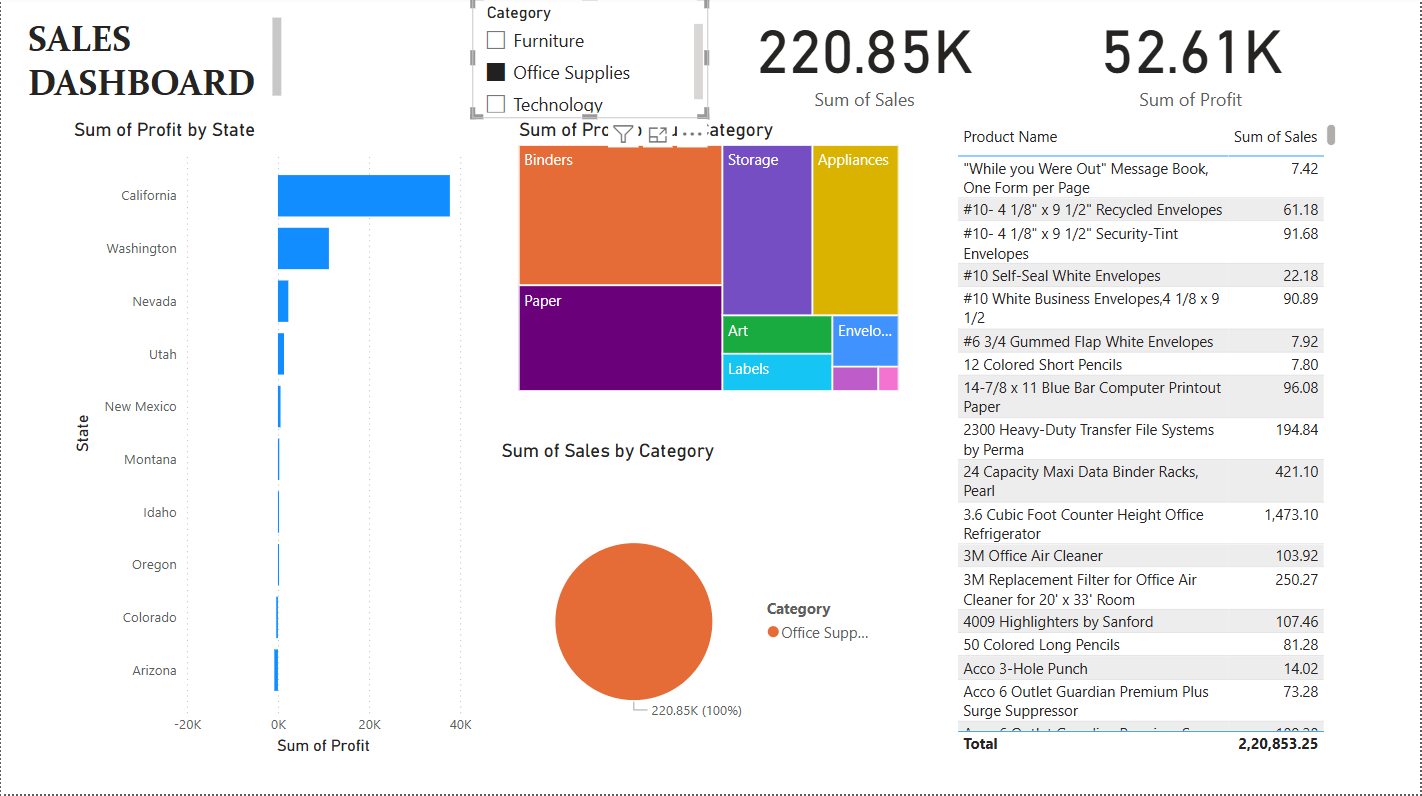

The page's visual inventory and layout, read from the dashboard file:
{"tool":"powerbi","page":{"name":"Page 1","canvas":[1280,720],"ordinal":0},"visuals":[{"type":"barChart","fields":{"Category":["Walmart.State"],"Y":["Sum(Walmart.Profit)"]},"box":[61.1,110,367.9,578.2],"z":0},{"type":"treemap","fields":{"Group":["Walmart.Sub-Category"],"Values":["Sum(Walmart.Profit)"]},"box":[462.1,110,352.1,250.6],"z":1000},{"type":"pieChart","fields":{"Category":["Walmart.Category"],"Y":["Sum(Walmart.Sales)"]},"box":[446.2,399.7,352.1,309.3],"z":2000},{"type":"tableEx","fields":{"Values":["Walmart.Product Name","Sum(Walmart.Sales)"]},"box":[856.9,110,352.1,578.2],"z":3000},{"type":"card","fields":{"Values":["Sum(Walmart.Sales)"]},"box":[622.2,0,313.1,108.2],"z":4000},{"type":"card","fields":{"Values":["Sum(Walmart.Profit)"]},"box":[935.3,0,274.4,108.2],"z":5000},{"type":"slicer","fields":{"Values":["Walmart.Category"]},"box":[425.4,1.2,212.7,108.8],"z":6000},{"type":"textbox","box":[19.6,14.7,238.4,84.3],"z":7000}]}

Visuals, with their boxes in screenshot pixels (x1, y1, x2, y2), scaled from the page's 1280x720 canvas onto the 1422x796 screenshot:
barChart - Walmart.State x Sum(Walmart.Profit): 68/122/477/761
treemap - Walmart.Sub-Category x Sum(Walmart.Profit): 513/122/905/399
pieChart - Walmart.Category x Sum(Walmart.Sales): 496/442/887/784
tableEx - Walmart.Product Name x Sum(Walmart.Sales): 952/122/1343/761
card - Sum(Walmart.Sales): 691/0/1039/120
card - Sum(Walmart.Profit): 1039/0/1344/120
slicer - Walmart.Category: 473/1/709/122
textbox: 22/16/287/109
